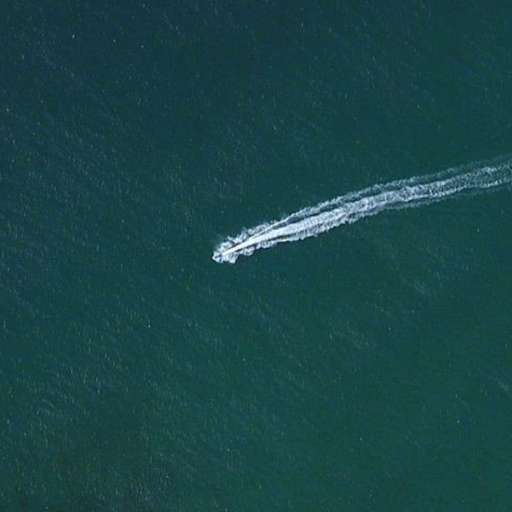ship: (210, 240, 241, 266)
